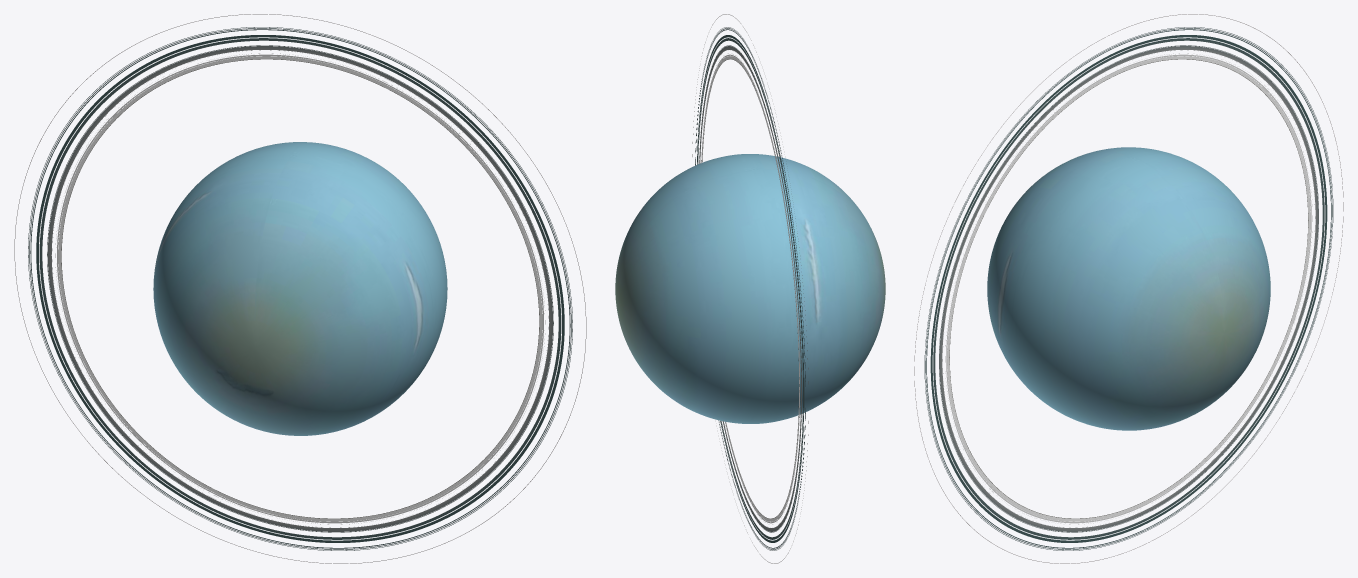
File: Uranus.glb
3 views of the same model, side by side, from view 1: azimuth 30°, elevation 25°; view 2: azimuth 150°, elevation 25°; view 3: azimuth 270°, elevation 25° (orthographic). The views are drawn at different scales.
Parts seen in each view (by area): view 1: node_id47, node_id49; view 2: node_id47, node_id49; view 3: node_id47, node_id49.
Part boxes in pixels (x1,y1,x2,y2): node_id47: (153, 142, 447, 435); node_id49: (14, 14, 586, 563); node_id47: (615, 154, 885, 423); node_id49: (692, 14, 808, 563); node_id47: (987, 147, 1270, 430); node_id49: (914, 14, 1343, 563).
Size of the model in its own units: 0.3438 by 0.512 by 0.3794.
Materials: 2 (2 with a texture image).
